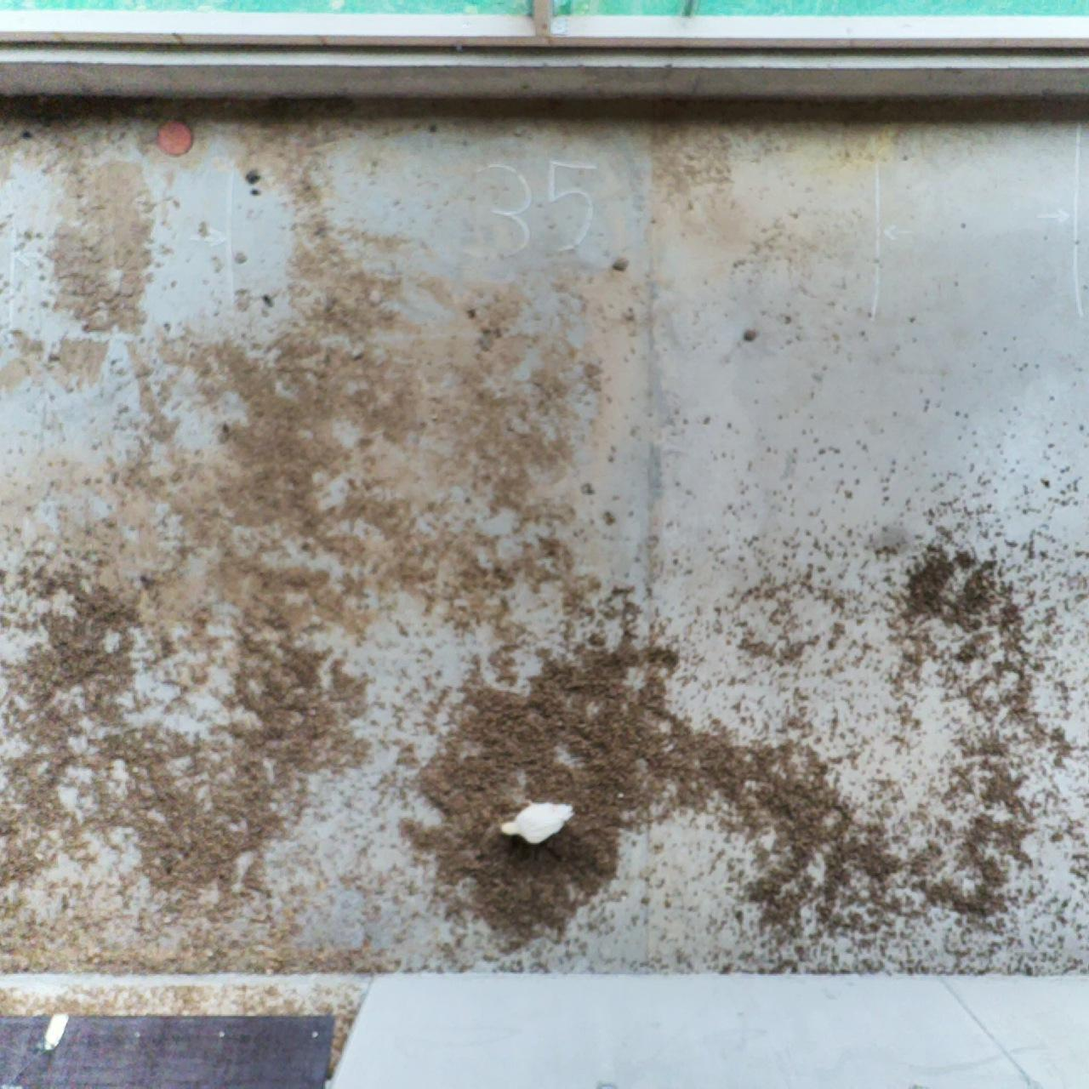chicken: (498, 797, 583, 848)
